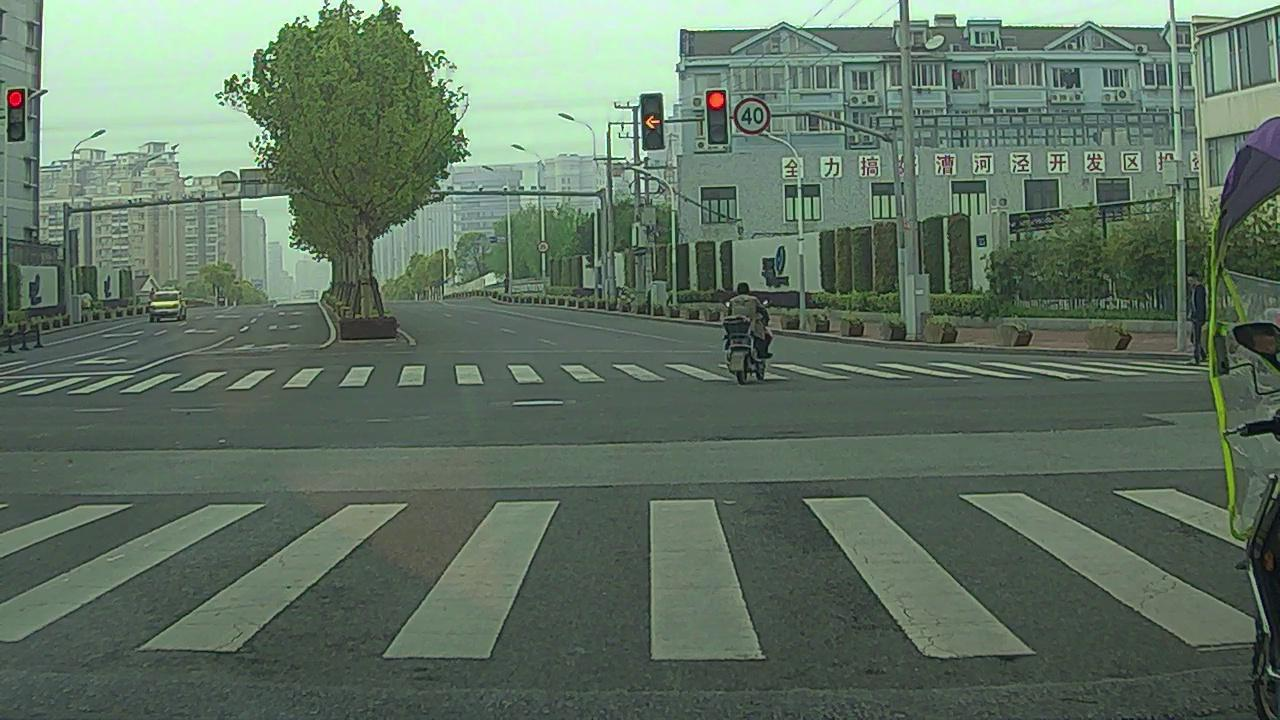traffic_light: (639, 94, 663, 148), (5, 87, 25, 140), (707, 92, 726, 146)
